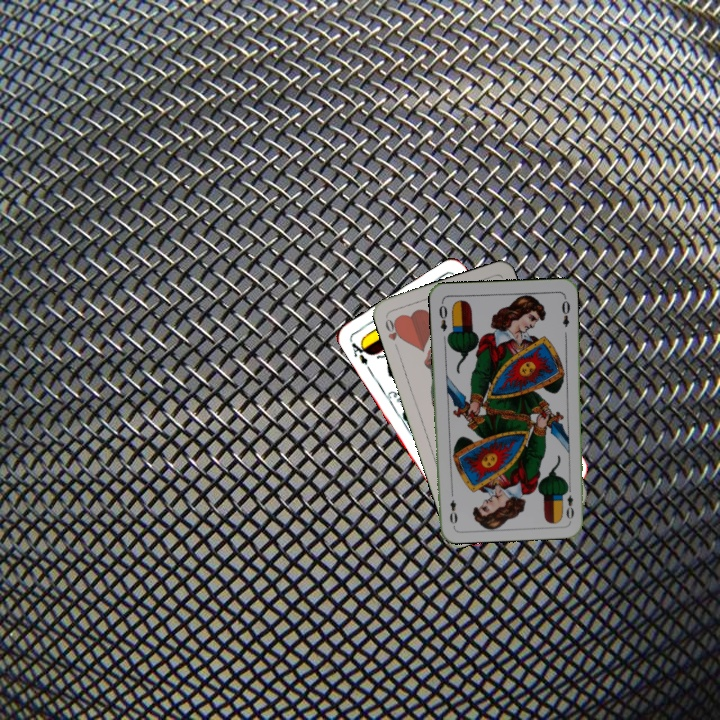EA: (347, 337, 372, 368)
EO: (561, 482, 576, 522), (435, 298, 450, 334)
HO: (381, 315, 405, 353)
